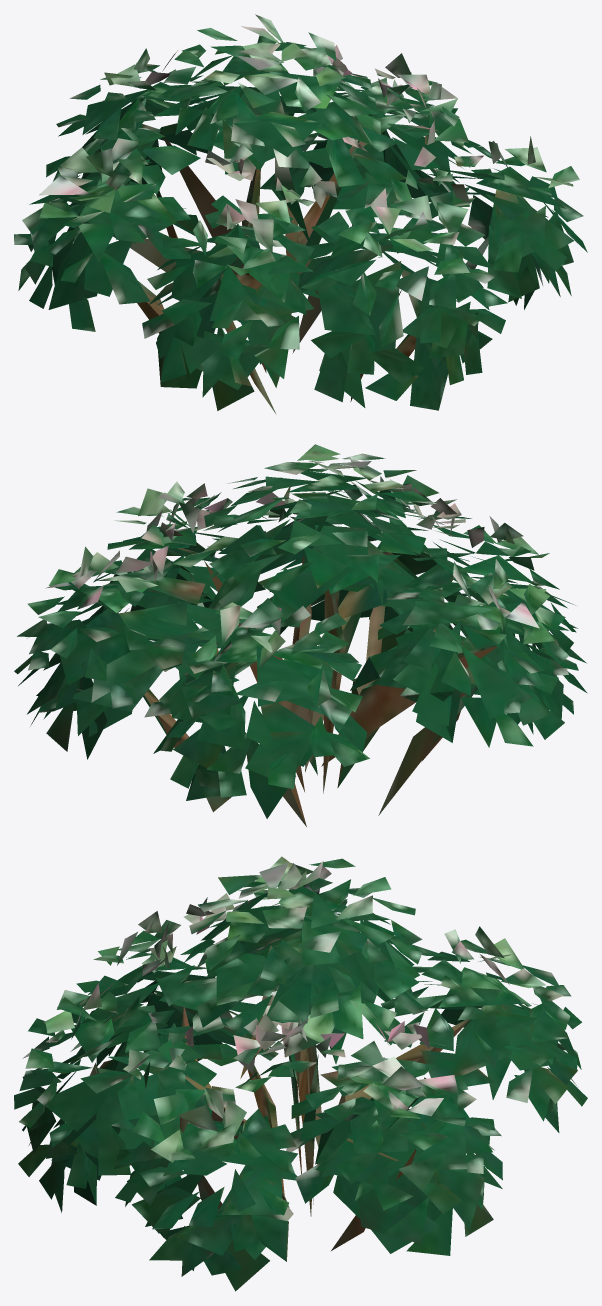
Rendered from flower_bush.glb.
3 renders of one model, top to bottom at view 1: azimuth 30°, elevation 25°; view 2: azimuth 150°, elevation 25°; view 3: azimuth 270°, elevation 25°, orthographic. The views are drawn at different scales.
Parts seen in each view (by area): view 1: Mesh; view 2: Mesh; view 3: Mesh.
Part boxes in pixels (x1,y1,x2,y2): Mesh: [14, 14, 587, 414]; Mesh: [14, 444, 587, 826]; Mesh: [14, 856, 587, 1291].
Bounding box in the file's own units: 1 × 0.6625 × 0.998.
1 material, 1 textured.
